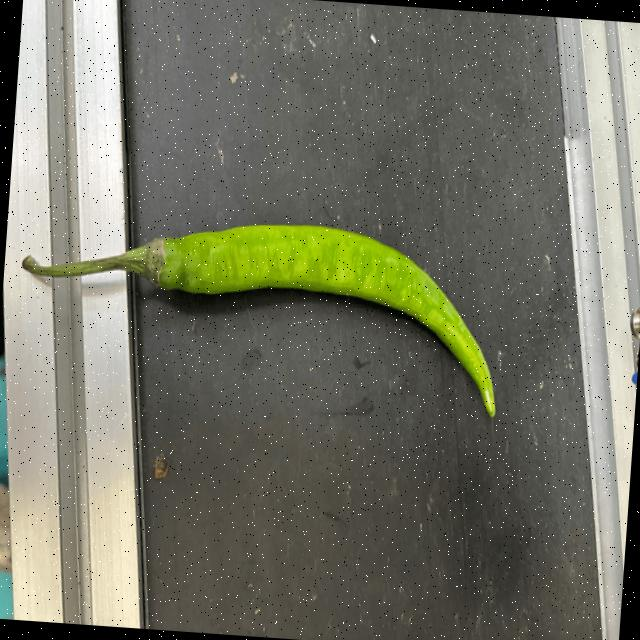chili: (143, 221, 497, 418)
